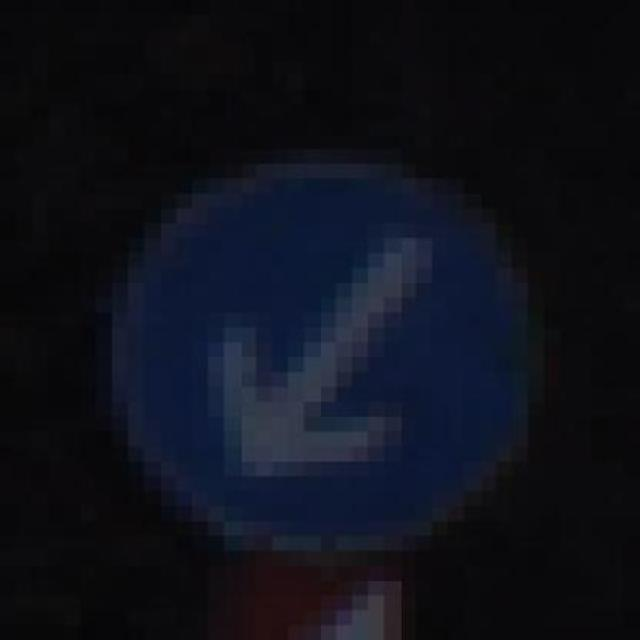Keep-Left: (80, 149, 560, 580)
